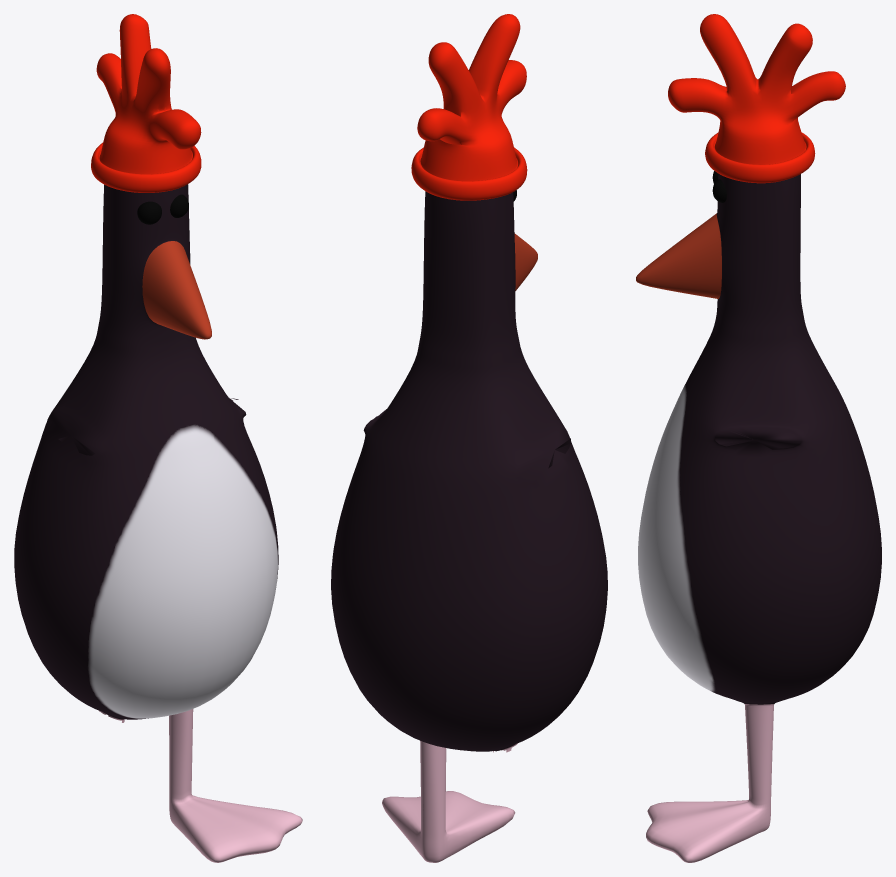
3 views of the same model, side by side, from view 1: azimuth 30°, elevation 25°; view 2: azimuth 150°, elevation 25°; view 3: azimuth 270°, elevation 25° (orthographic). The views are drawn at different scales.
Visible parts, largest first — view 1: body1, hat1, body1.003; view 2: body1, hat1, body1.003; view 3: body1, hat1, body1.003.
Boxes of the visible parts, box(x1,y1,x2,y2) form: body1: box(14, 184, 278, 722); hat1: box(91, 14, 201, 192); body1.003: box(169, 709, 302, 862); body1: box(331, 191, 607, 752); hat1: box(411, 14, 527, 200); body1.003: box(382, 740, 515, 862); body1: box(636, 174, 881, 705); hat1: box(668, 14, 845, 183); body1.003: box(646, 704, 773, 862).
Size of the model in its own units: 66.47 by 217 by 61.14.
